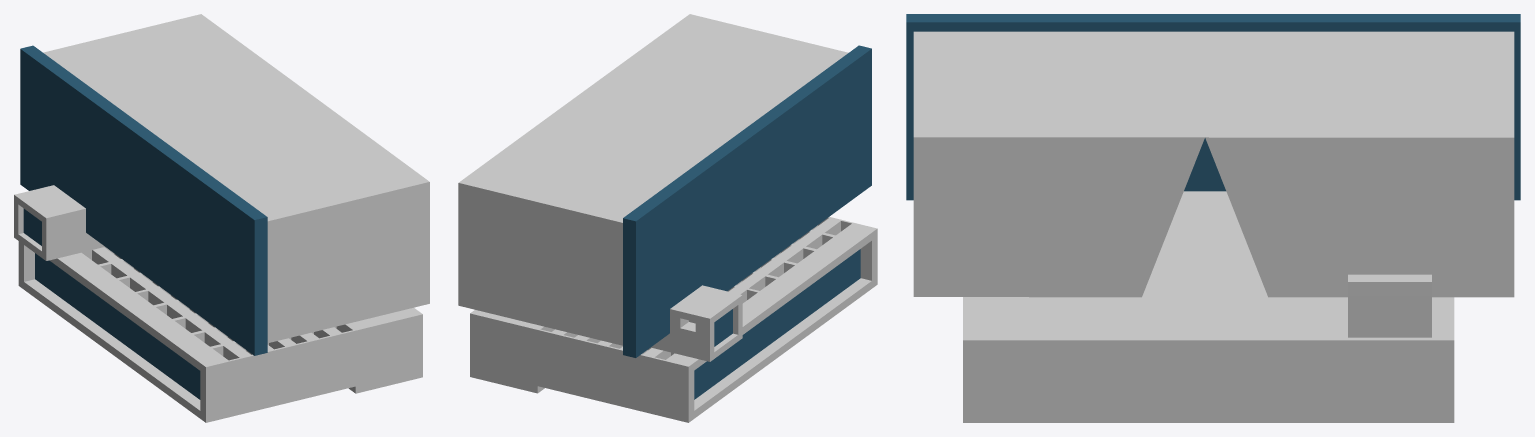
The model's file is SM_Myungshin.FBX.
The picture shows the model from 3 angles, left to right: view 1: azimuth 30°, elevation 25°; view 2: azimuth 150°, elevation 25°; view 3: azimuth 270°, elevation 25°; orthographic projection. The views are drawn at different scales.
Visible parts, largest first — view 1: Box029; view 2: Box029; view 3: Box029.
Part boxes in pixels (x1,y1,x2,y2): Box029: (14,14,429,422); Box029: (458,14,877,422); Box029: (906,14,1520,422).
Bounding box in the file's own units: 55.22 × 50.3 × 97.41.
